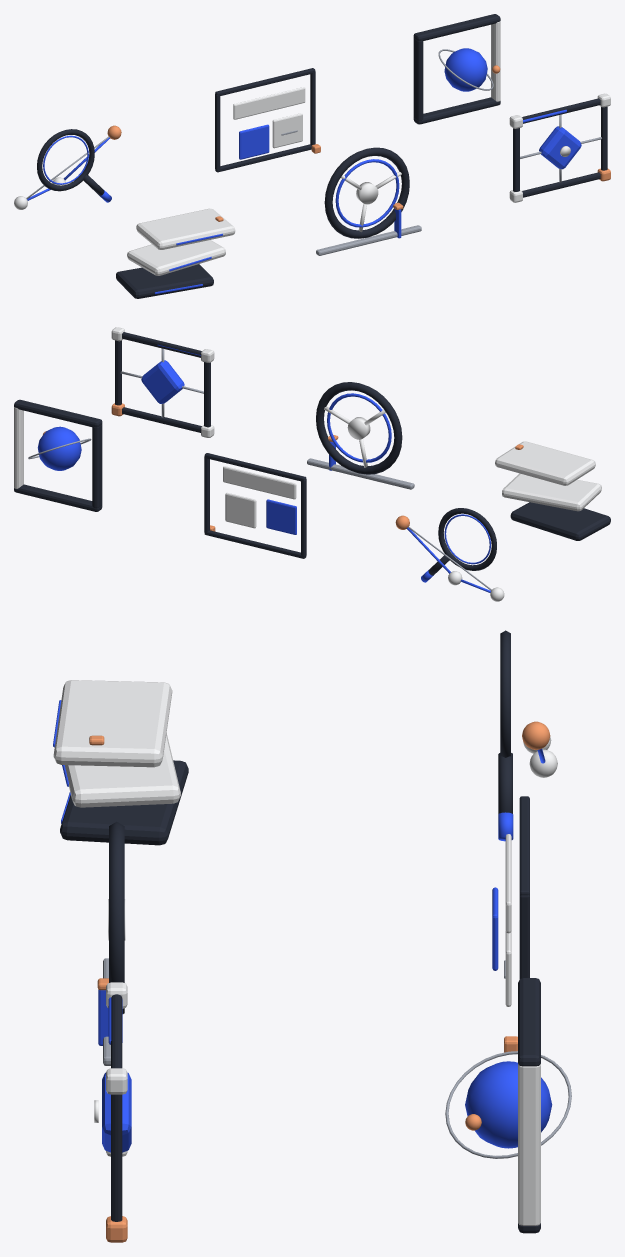
Rendered from minimal-play-kit.glb.
3 renders of one model, top to bottom at view 1: azimuth 30°, elevation 25°; view 2: azimuth 150°, elevation 25°; view 3: azimuth 270°, elevation 25°, orthographic. The views are drawn at different scales.
Parts seen in each view (by area): view 1: Prompt_Context_tile_3, Video_Reel_outer, Prompt_Context_tile_1, Prompt_Context_tile_2, Creative_Idea_orb, Design_Hero_plane, Research_Evidence_lens, Code_Logic_hub, Design_Grid_plane_1, Design_Grid_plane_2, Creative_Aperture_top, Creative_Aperture_left (+12 smaller); view 2: Prompt_Context_tile_3, Prompt_Context_tile_1, Prompt_Context_tile_2, Video_Reel_outer, Creative_Idea_orb, Design_Hero_plane, Code_Logic_hub, Research_Evidence_lens, Design_Grid_plane_2, Design_Grid_plane_1, Creative_Aperture_top, Creative_Aperture_left (+13 smaller); view 3: Prompt_Context_tile_3, Prompt_Context_tile_2, Prompt_Context_tile_1, Creative_Idea_orb, Creative_Aperture_right, Video_Reel_outer, Creative_Aperture_top, Code_Trace_right, Research_Evidence_lens, Code_Logic_hub, Creative_Idea_orbit, Design_Frame_top (+3 smaller).
Boxes of the visible parts, <box> form: Prompt_Context_tile_3: <box>136,208,235,249</box>; Video_Reel_outer: <box>324,147,409,238</box>; Prompt_Context_tile_1: <box>116,264,213,298</box>; Prompt_Context_tile_2: <box>127,240,225,275</box>; Creative_Idea_orb: <box>444,48,487,91</box>; Design_Hero_plane: <box>233,87,305,119</box>; Research_Evidence_lens: <box>37,129,94,191</box>; Code_Logic_hub: <box>539,126,581,169</box>; Design_Grid_plane_1: <box>239,124,269,159</box>; Design_Grid_plane_2: <box>272,113,302,148</box>; Creative_Aperture_top: <box>413,14,500,40</box>; Creative_Aperture_left: <box>413,38,423,120</box>; Prompt_Context_tile_3: <box>495,441,595,485</box>; Prompt_Context_tile_1: <box>510,502,610,540</box>; Prompt_Context_tile_2: <box>502,473,601,511</box>; Video_Reel_outer: <box>316,382,402,474</box>; Creative_Idea_orb: <box>37,426,81,470</box>; Design_Hero_plane: <box>223,466,296,499</box>; Code_Logic_hub: <box>141,360,184,403</box>; Research_Evidence_lens: <box>438,508,496,570</box>; Design_Grid_plane_2: <box>225,492,256,528</box>; Design_Grid_plane_1: <box>266,499,296,534</box>; Creative_Aperture_top: <box>14,399,102,427</box>; Creative_Aperture_left: <box>92,424,102,508</box>; Prompt_Context_tile_3: <box>53,680,172,767</box>; Prompt_Context_tile_2: <box>64,733,180,807</box>; Prompt_Context_tile_1: <box>60,760,188,845</box>; Creative_Idea_orb: <box>465,1061,552,1148</box>; Creative_Aperture_right: <box>518,1064,540,1225</box>; Video_Reel_outer: <box>109,821,124,1013</box>; Creative_Aperture_top: <box>518,978,540,1066</box>; Code_Trace_right: <box>111,1094,122,1221</box>; Research_Evidence_lens: <box>500,630,510,757</box>; Code_Logic_hub: <box>102,1072,131,1152</box>; Creative_Idea_orbit: <box>445,1051,571,1158</box>; Design_Frame_top: <box>519,796,529,895</box>.
Bounding box in the file's own units: 11.91 × 2.2 × 5.47.
